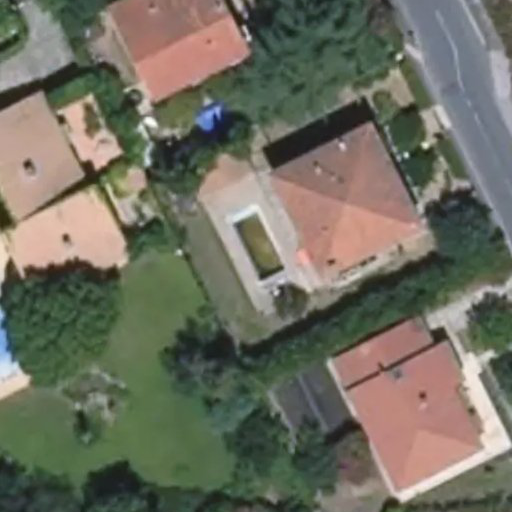pool: (223, 217, 288, 266)
